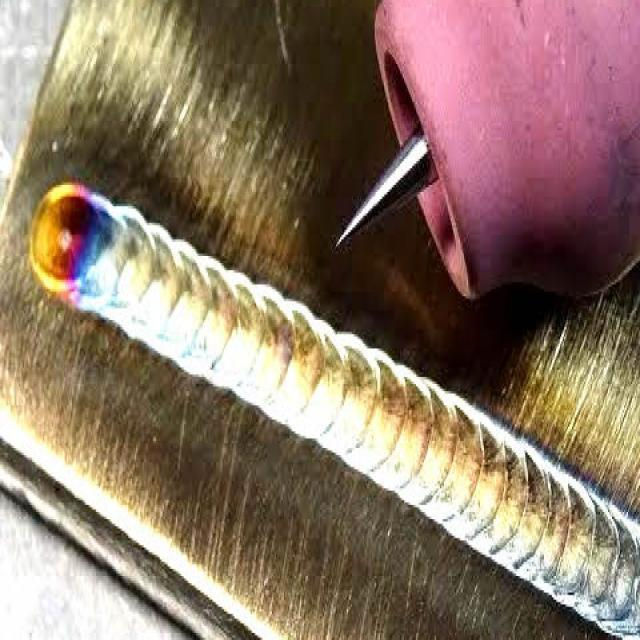Good Weld: (336, 346, 621, 604), (104, 242, 323, 430)
